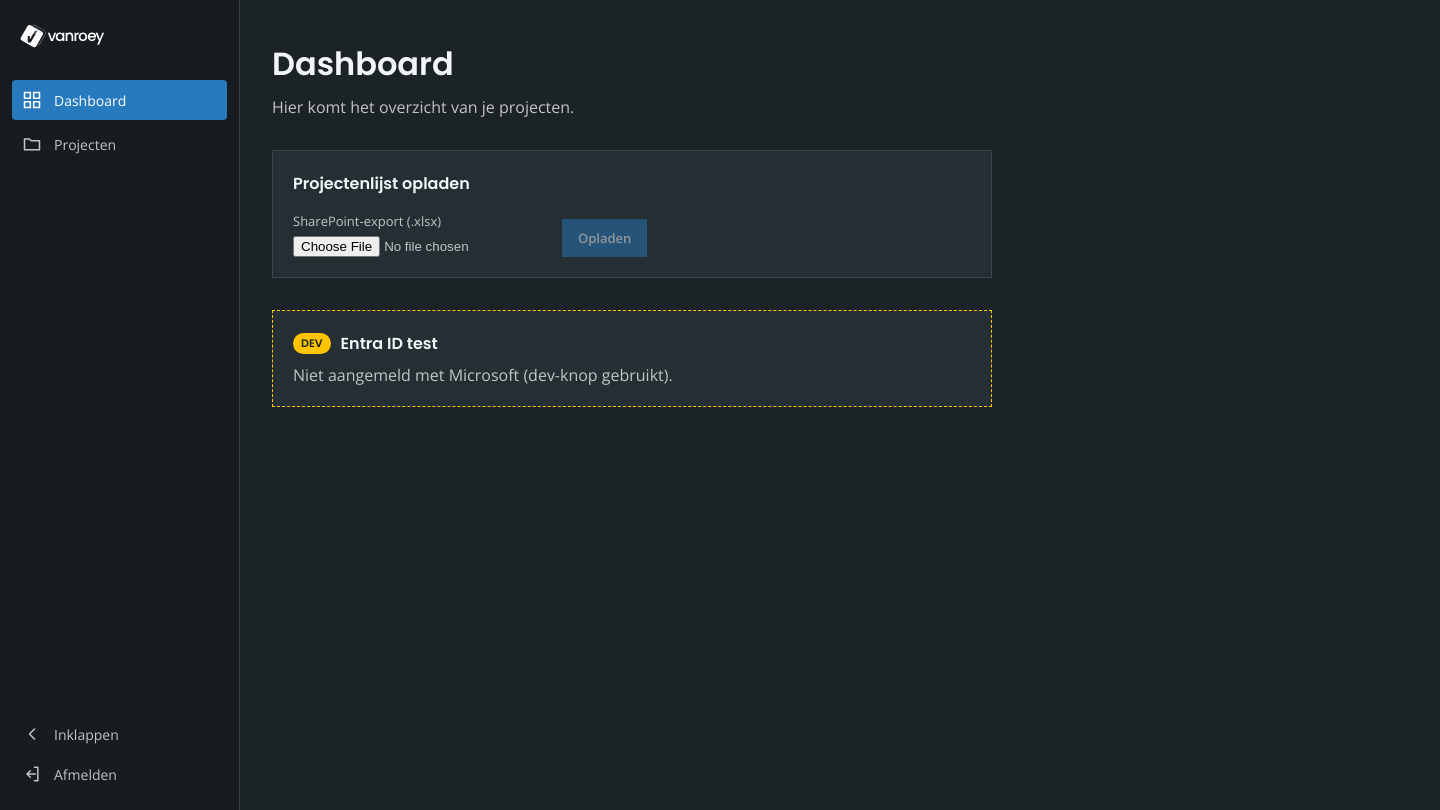
Scenario: DashboardPage › switches to the projects page from the sidebar
This screenshot has width=1440, height=810.
Click the button "Projecten".
click(120, 144)  # box [12,124,227,164]
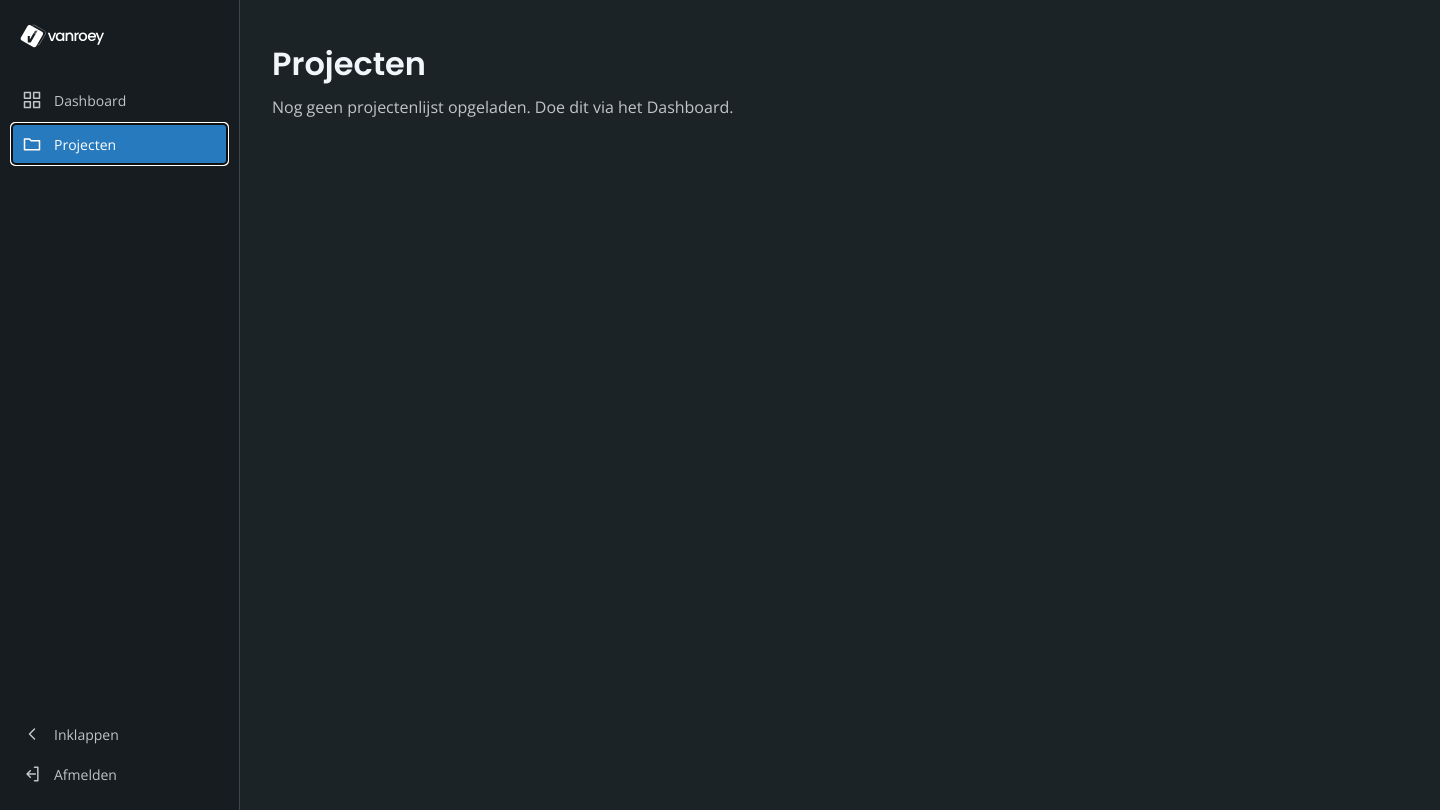
Result: the heading "Projecten" is shown at [272,41,426,86]
Result: the text "Nog geen projectenlijst opgeladen" is shown at [272,96,733,118]
